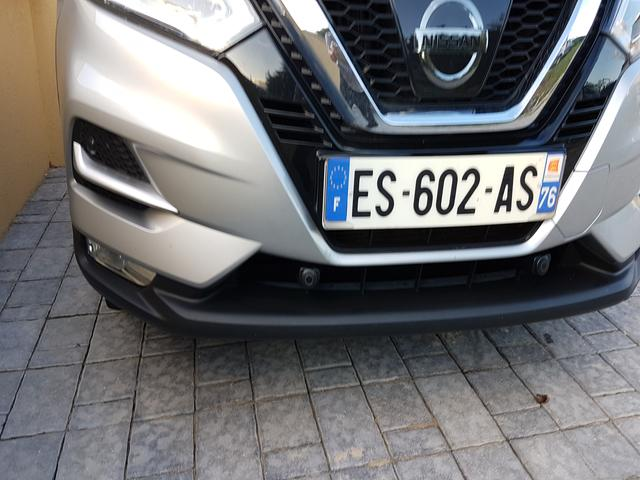Quashqai: (288, 117, 598, 237)
